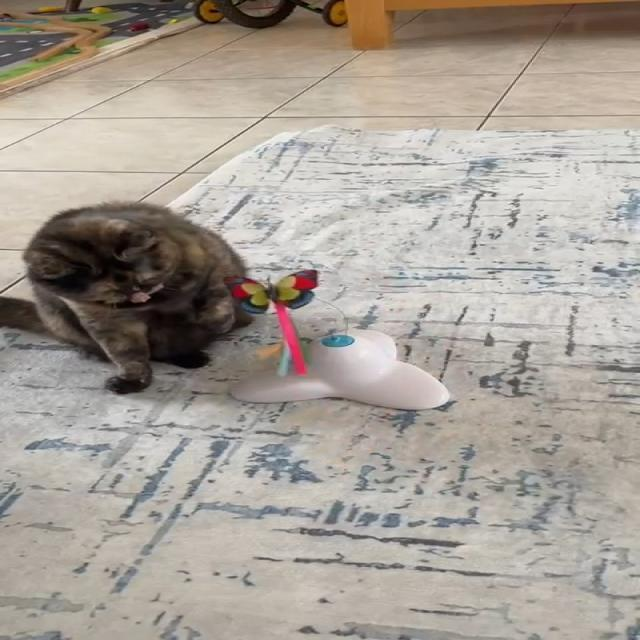authorized: (0, 199, 253, 393)
